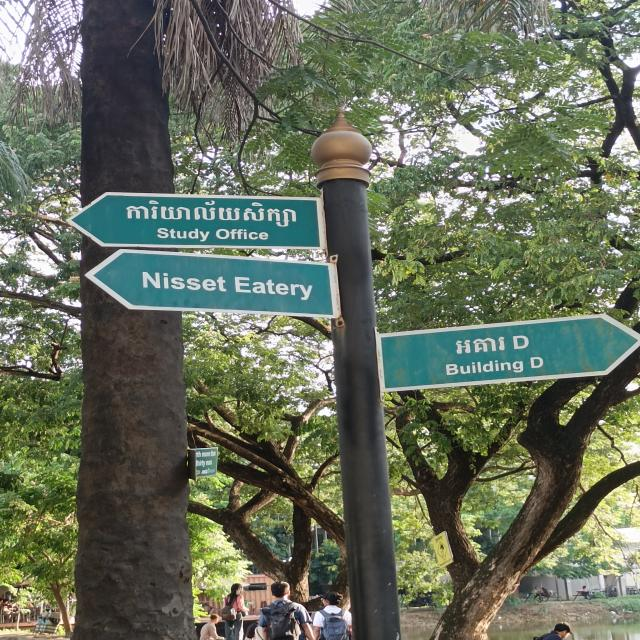Yolov11_80vkh: (122, 195, 302, 230), (450, 333, 509, 358)
